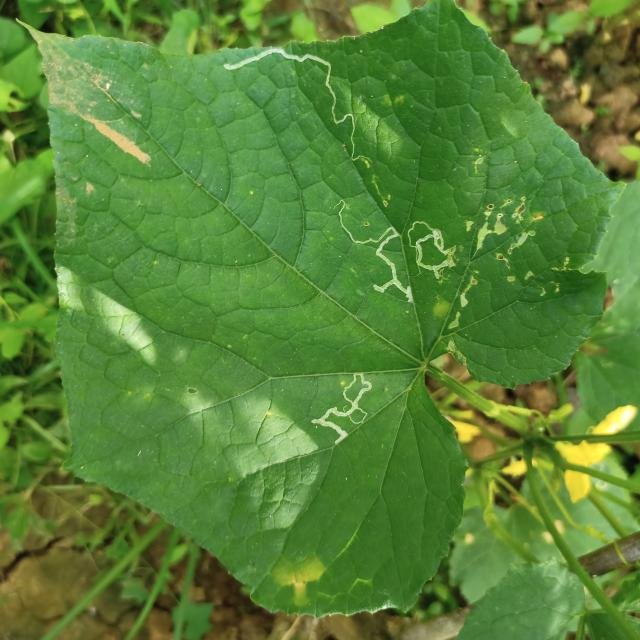disease_cucumber: (274, 556, 326, 609)
